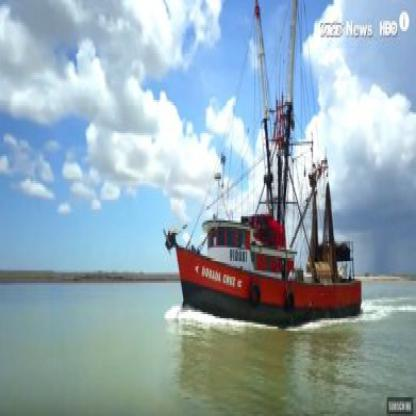fish-b: (154, 0, 369, 352)
